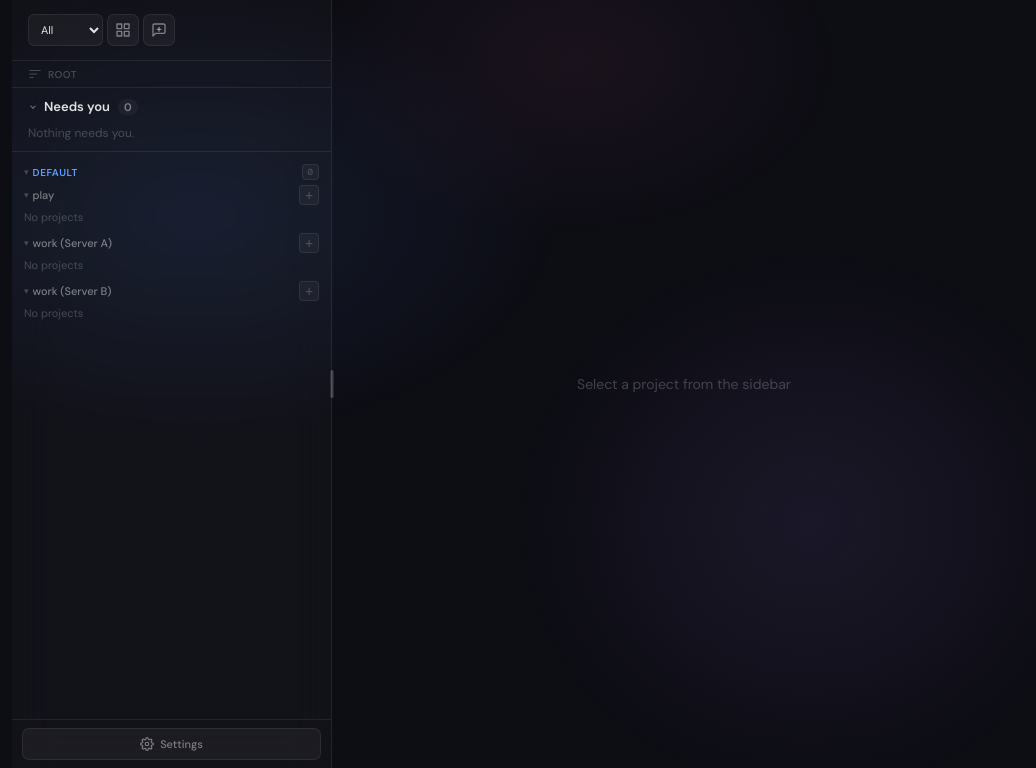
Test: a root's + › play opens Create project on that server and root
The width and height of the screenshot is (1036, 768).
Click the 1st button with class "root-action-btn": (309, 195) [299,185,319,205]
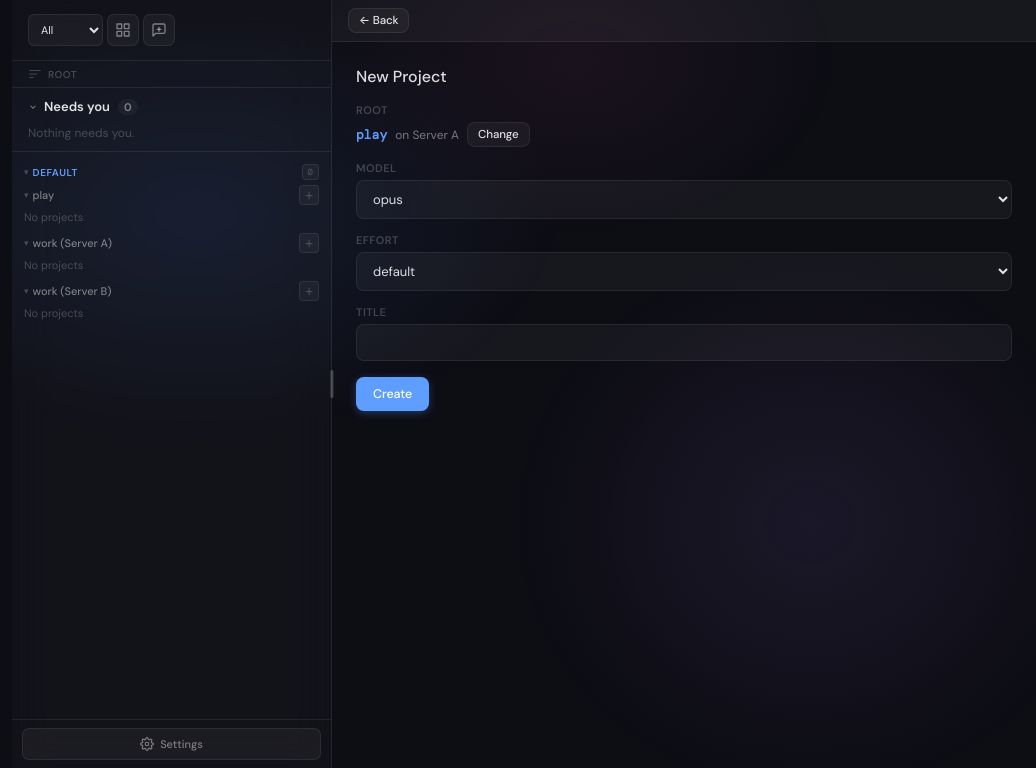
Expected: the text with class "selected-root-name" reads "play", [356,126,387,143]
Expected: the text with class "selected-root-server" reads "on Server A", [395,126,459,142]
